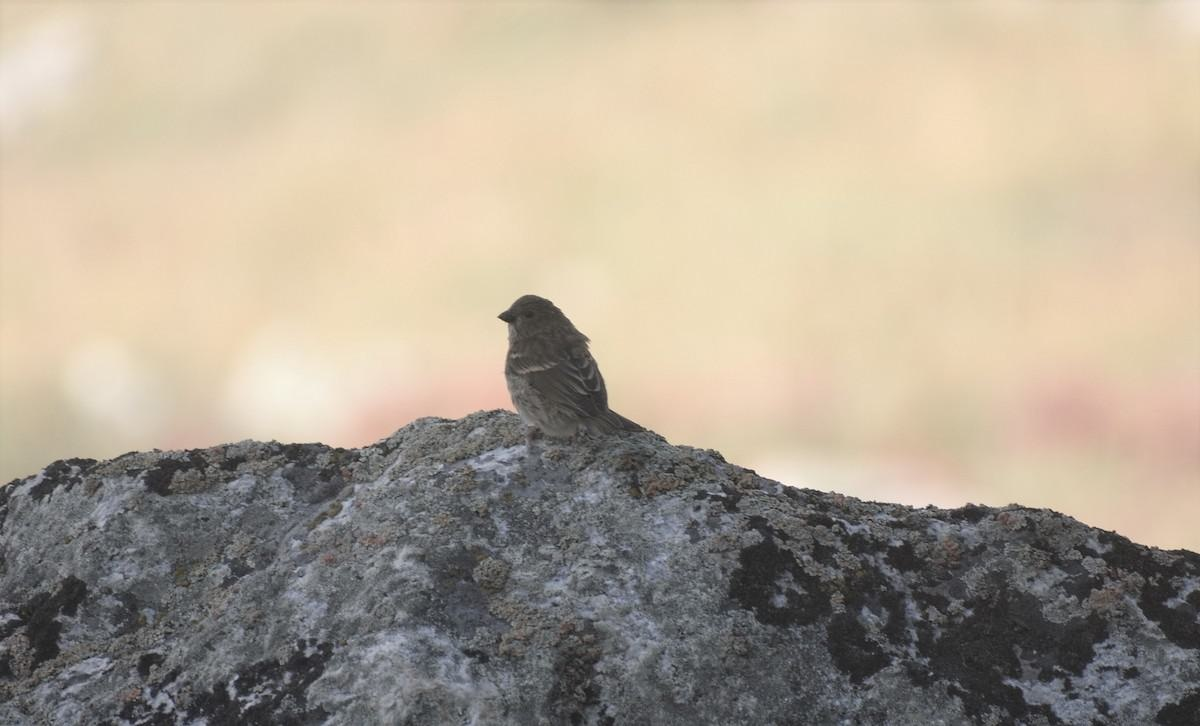rosefinch: (480, 290, 657, 488)
